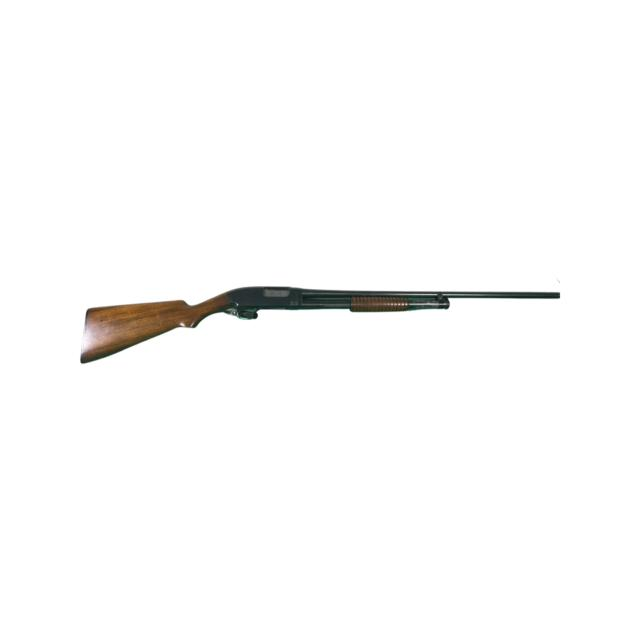ShotGun: (80, 287, 562, 366)
